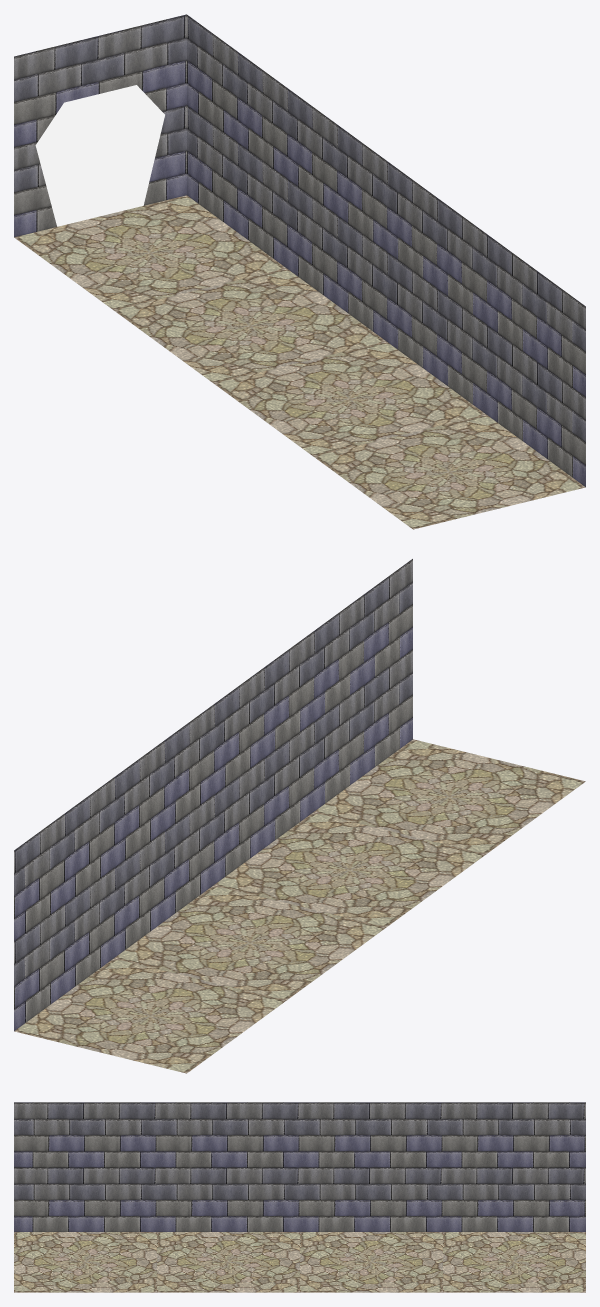
3 views of the same model, one above another, from view 1: azimuth 30°, elevation 25°; view 2: azimuth 150°, elevation 25°; view 3: azimuth 270°, elevation 25° (orthographic). The views are drawn at different scales.
Visible parts, largest first — view 1: scene_0_wall_mesh, scene_0_floor_mesh, scene_0_invisible_mesh; view 2: scene_0_wall_mesh, scene_0_floor_mesh; view 3: scene_0_wall_mesh, scene_0_floor_mesh.
Boxes of the visible parts, left/top/right/bottom form: scene_0_wall_mesh: left=14, top=14, right=585, bottom=486; scene_0_floor_mesh: left=14, top=195, right=585, bottom=529; scene_0_invisible_mesh: left=35, top=85, right=164, bottom=226; scene_0_wall_mesh: left=14, top=559, right=412, bottom=1030; scene_0_floor_mesh: left=14, top=739, right=585, bottom=1073; scene_0_wall_mesh: left=14, top=1102, right=585, bottom=1231; scene_0_floor_mesh: left=14, top=1232, right=585, bottom=1292.
Bounding box in the file's own units: 6 × 6 × 24.
3 materials, 2 textured.
